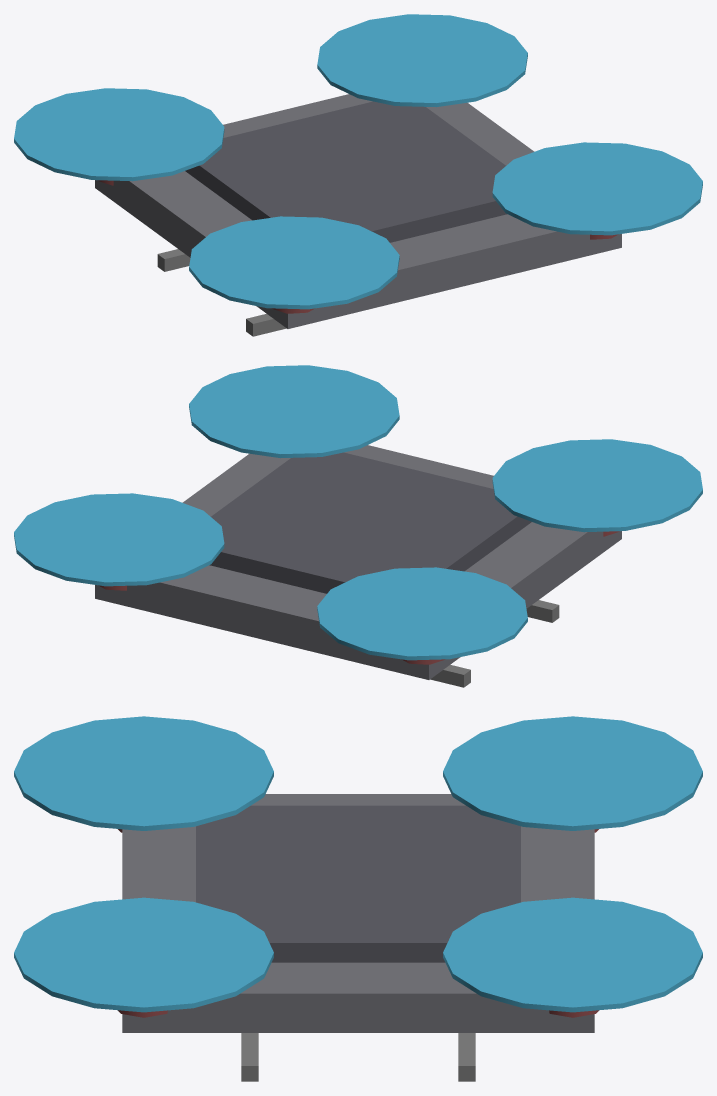
Rendered from quadcopter_generic.glb.
3 views of the same model, one above another, from view 1: azimuth 30°, elevation 25°; view 2: azimuth 150°, elevation 25°; view 3: azimuth 270°, elevation 25° (orthographic). The views are drawn at different scales.
Parts seen in each view (by area): view 1: Quadcopter; view 2: Quadcopter; view 3: Quadcopter.
Part boxes in pixels (x1,y1,x2,y2): Quadcopter: (14, 14, 702, 336); Quadcopter: (14, 365, 702, 687); Quadcopter: (14, 716, 702, 1081).
Size of the model in its own units: 0.636 by 0.1305 by 0.636.
